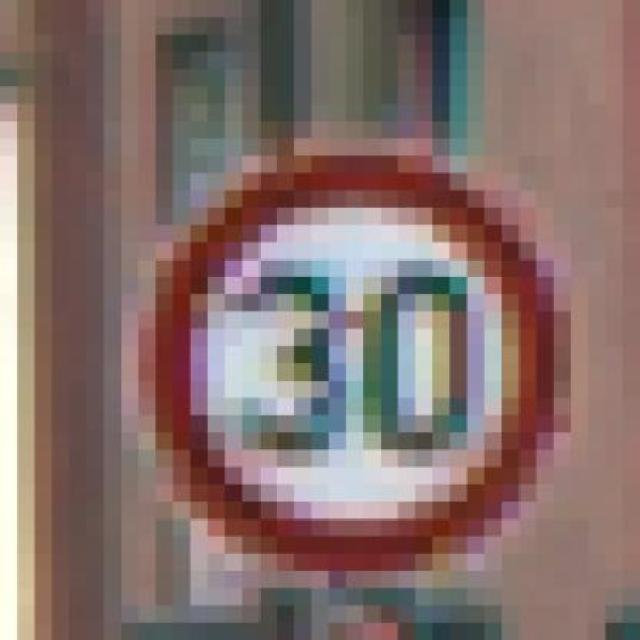forb_speed_over_30: (156, 159, 559, 572)
